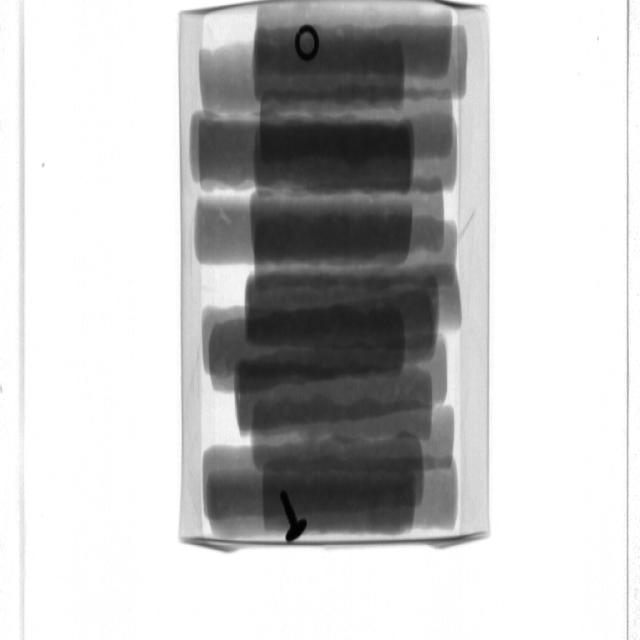ym: (281, 492, 307, 543), (297, 27, 323, 61)
